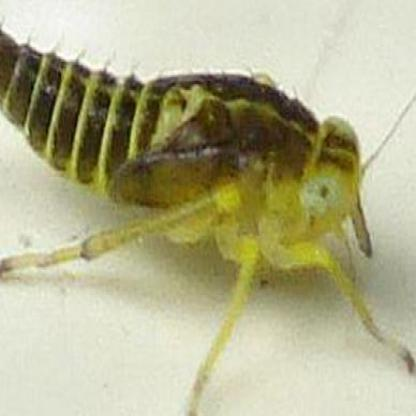green-leafhopper: (6, 31, 366, 324)
